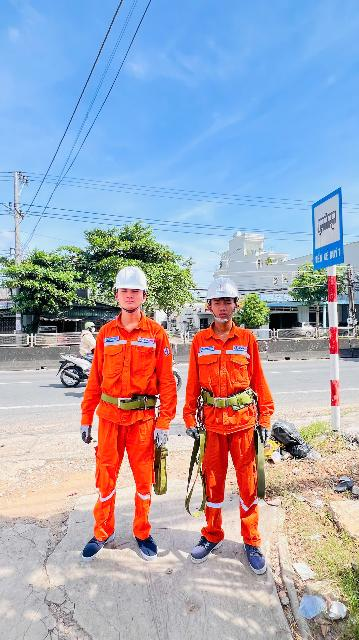gloves: (148, 425, 172, 450), (256, 423, 278, 449), (75, 422, 95, 443), (184, 427, 202, 443)
harness: (97, 387, 163, 413), (200, 383, 261, 410)
helmet: (111, 261, 153, 293), (197, 278, 244, 302)
shoes: (75, 518, 120, 561), (187, 526, 227, 566), (128, 521, 161, 566), (240, 534, 273, 574)
